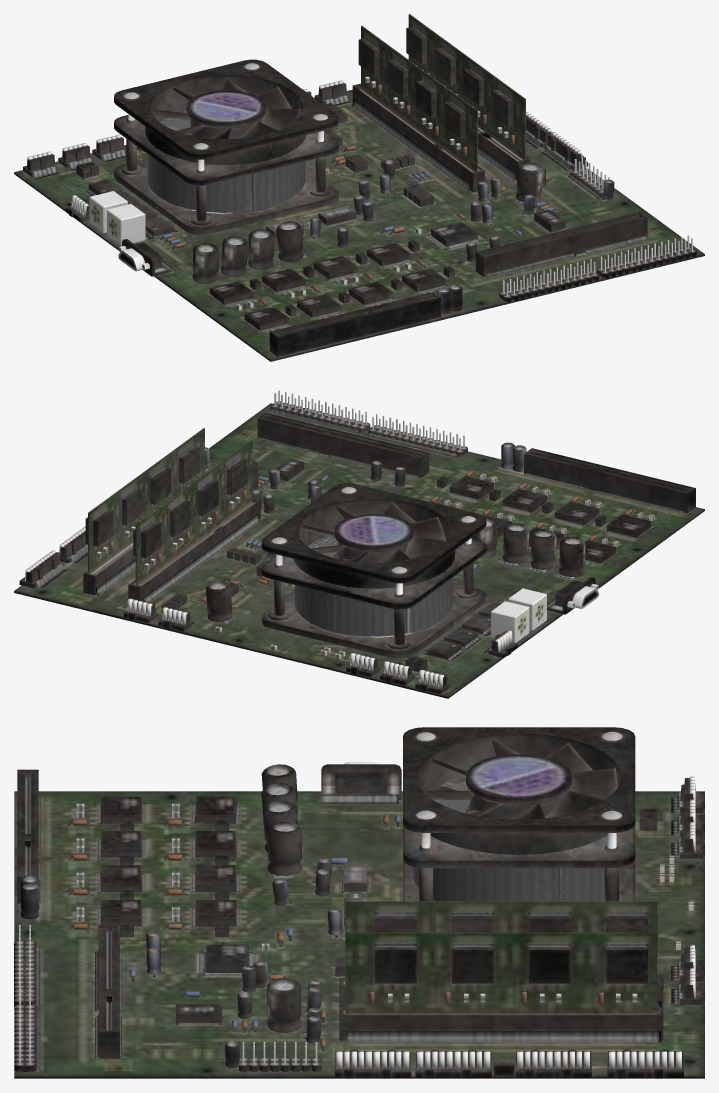
3 renders of one model, top to bottom at view 1: azimuth 30°, elevation 25°; view 2: azimuth 150°, elevation 25°; view 3: azimuth 270°, elevation 25°, orthographic. The views are drawn at different scales.
Parts seen in each view (by area): view 1: circuit_board; view 2: circuit_board; view 3: circuit_board.
Part boxes in pixels (x1=…): circuit_board: x1=14, y1=14, x2=704, y2=361; circuit_board: x1=14, y1=390, x2=704, y2=698; circuit_board: x1=14, y1=727, x2=704, y2=1078.
Size of the model in its own units: 0.4035 by 0.0783 by 0.3974.
2 materials, 2 textured.
